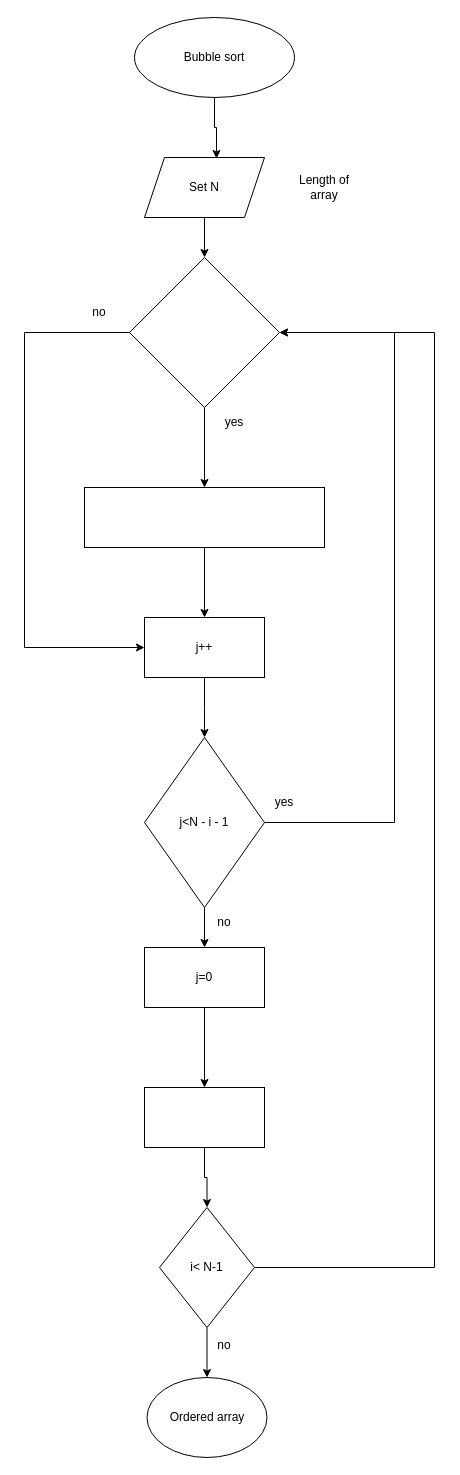
The diagram is 460 pixels wide and 1475 high, and some of its shapes have lost their labels. The shapes that lost their labels are listed below. From the top down, each one's box as (x1, y1, x2, y2) in pixels, then its label:
(128, 256, 280, 408): Array[j] > Array[j+1]
(84, 486, 324, 548): Swap Array[j] and Array[j+1]
(144, 1086, 264, 1148): i++
